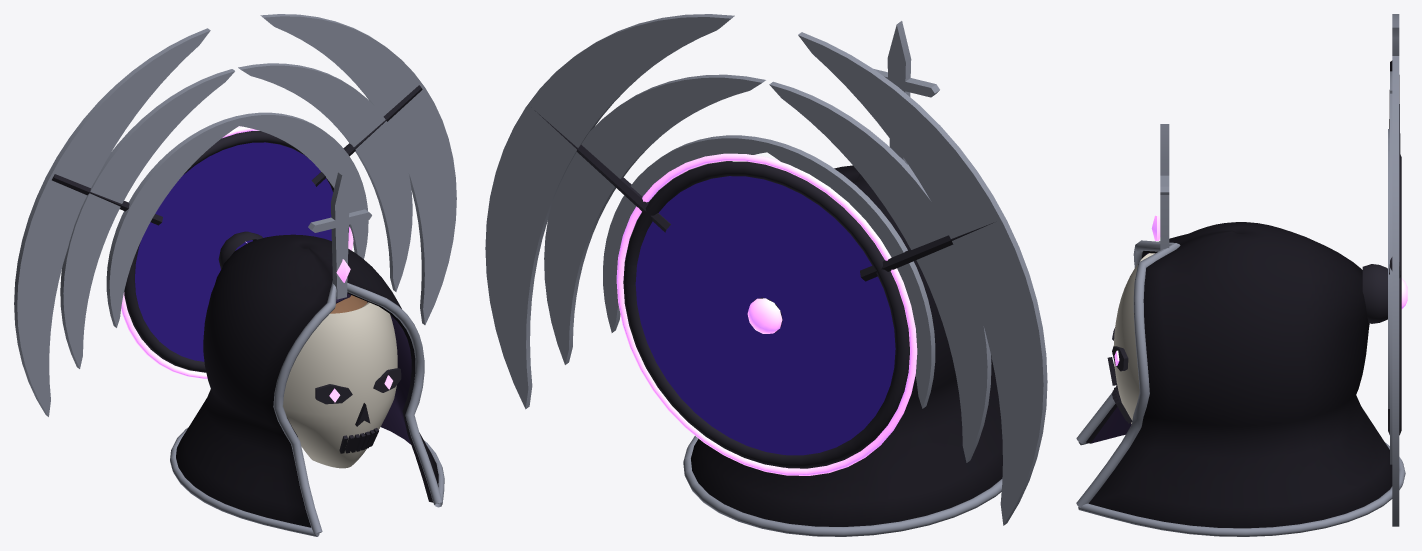
File: h_reaper_f.glb
The picture shows the model from 3 angles, left to right: view 1: azimuth 30°, elevation 25°; view 2: azimuth 150°, elevation 25°; view 3: azimuth 270°, elevation 25°; orthographic projection. The views are drawn at different scales.
Parts seen in each view (by area): view 1: Hood; view 2: Hood; view 3: Hood.
Boxes of the visible parts, left/top/right/bottom form: Hood: left=14, top=14, right=456, bottom=536; Hood: left=485, top=14, right=1047, bottom=536; Hood: left=1076, top=14, right=1407, bottom=536.
Size of the model in its own units: 0.73 by 0.6265 by 0.4318.
